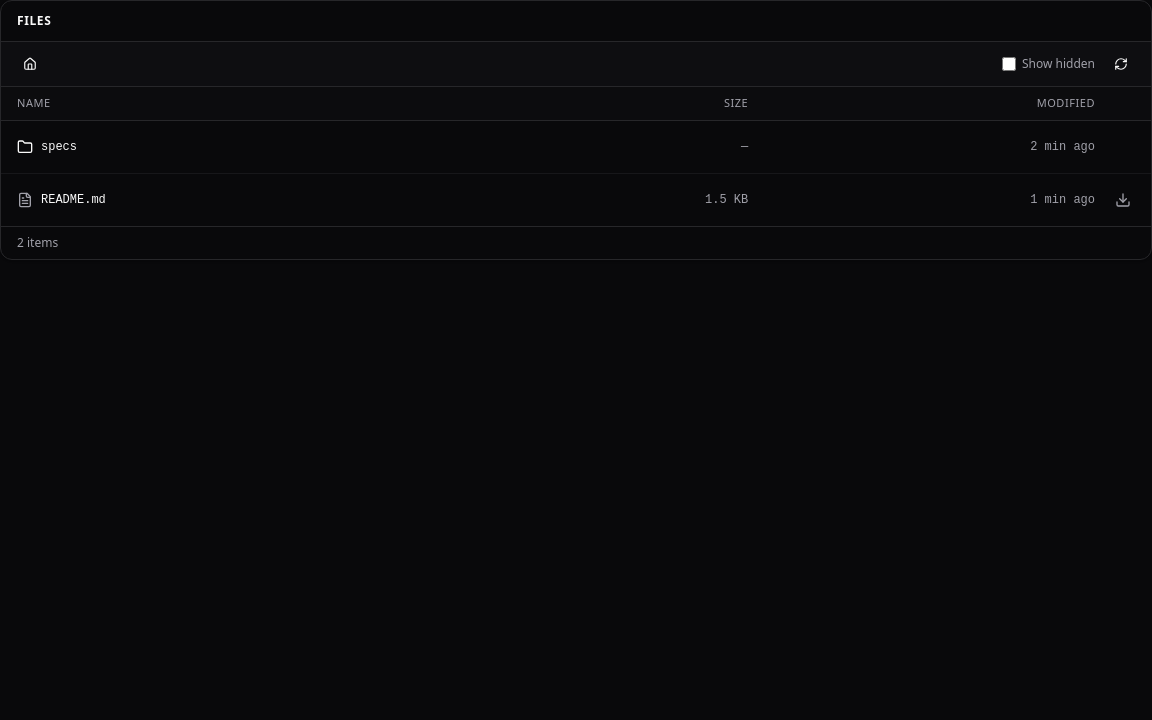
FilesPanel › opens preview sheet as plain text and does not render HTML/XSS as DOM elements
This screenshot has width=1152, height=720.
expect the text "README.md" is shown: met, box [41,192,106,208]
Click the button "README.md": (73, 200) [13,182,494,218]
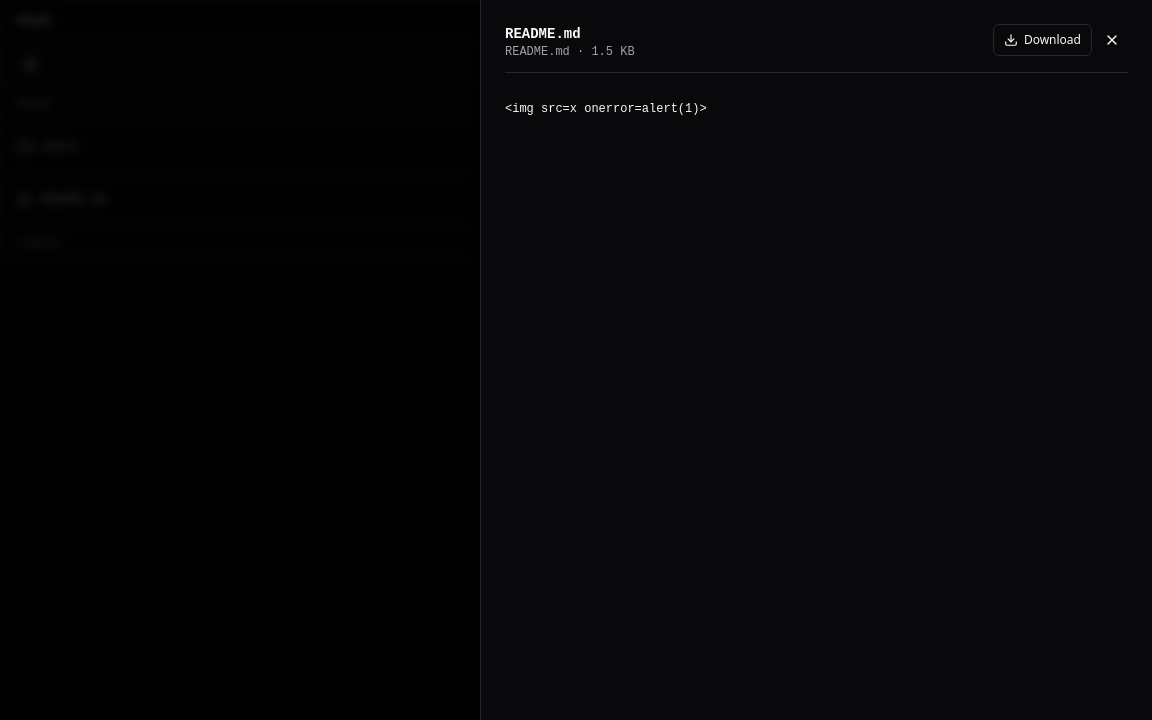
expect the text "<img src=x onerror=alert(1)>" is shown: met, box [505,102,707,116]
